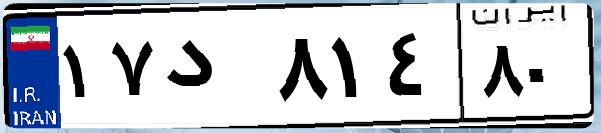0: (525, 38, 570, 115)
1: (330, 28, 385, 110), (57, 26, 110, 100)
4: (385, 28, 445, 110)
7: (110, 28, 158, 98)
8: (270, 28, 330, 110), (475, 38, 525, 113)
د: (158, 20, 270, 120)
